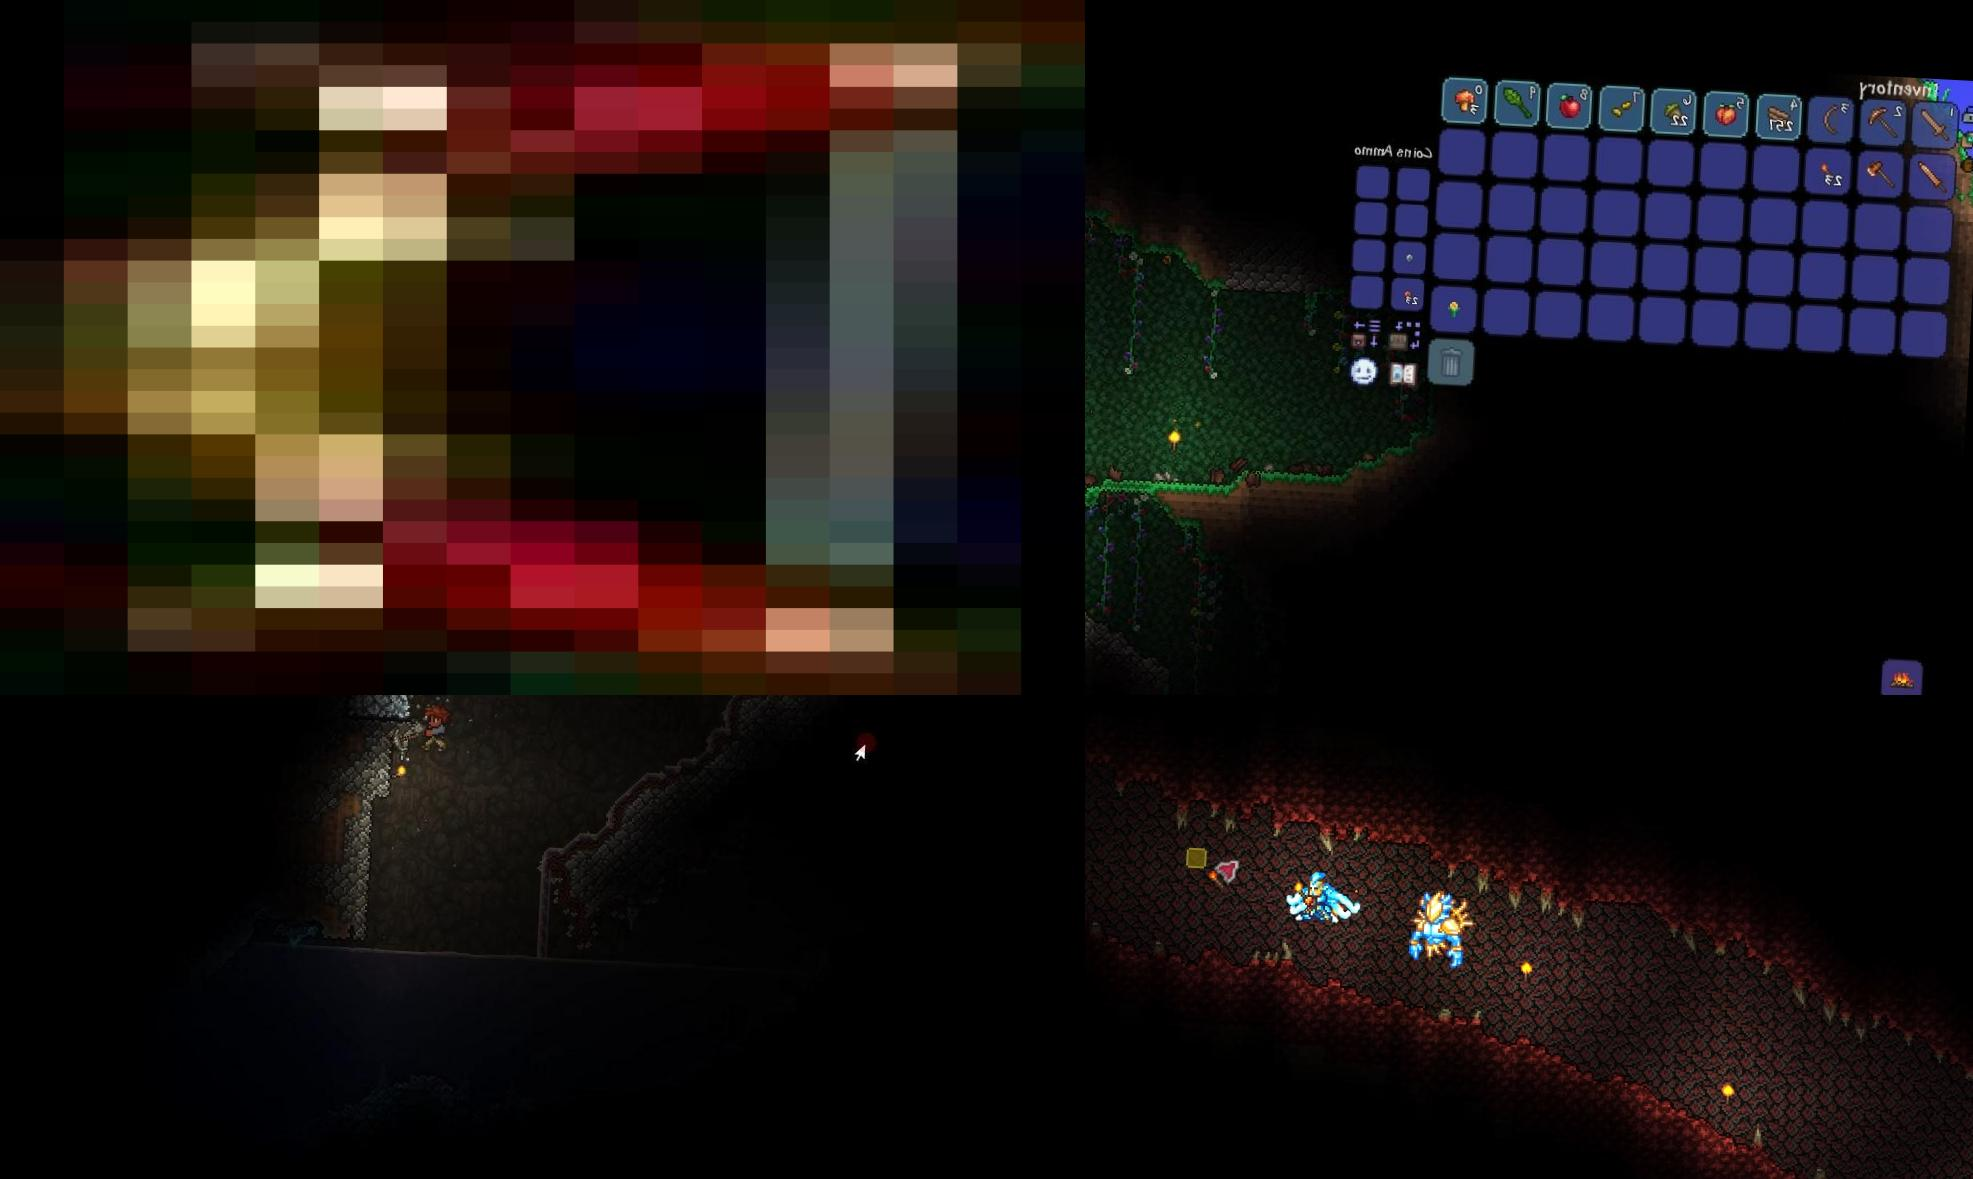bow: (0, 0, 1085, 695)
crimstone: (1201, 947, 1231, 971)
platinum: (394, 698, 413, 721)
sword: (1917, 105, 1958, 146)
